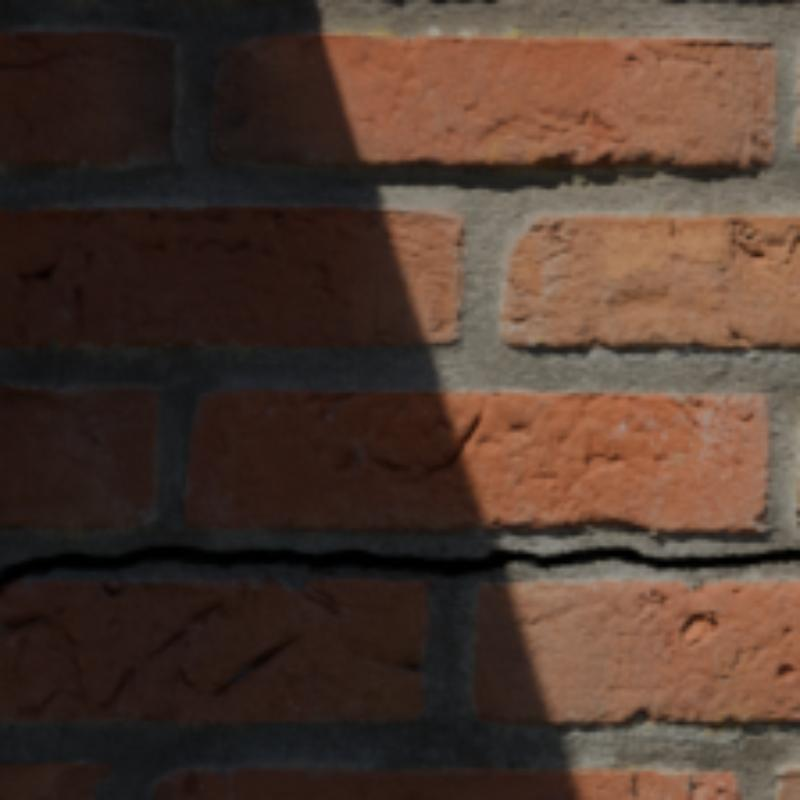crack: (0, 546, 796, 586)
